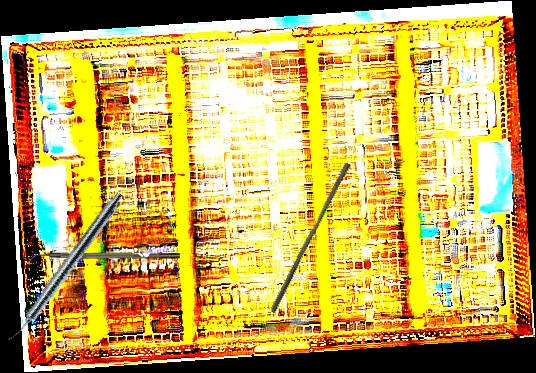Chopper: (26, 250, 181, 267)
Handpiece: (4, 188, 126, 347)
Pusher: (269, 159, 352, 317)
